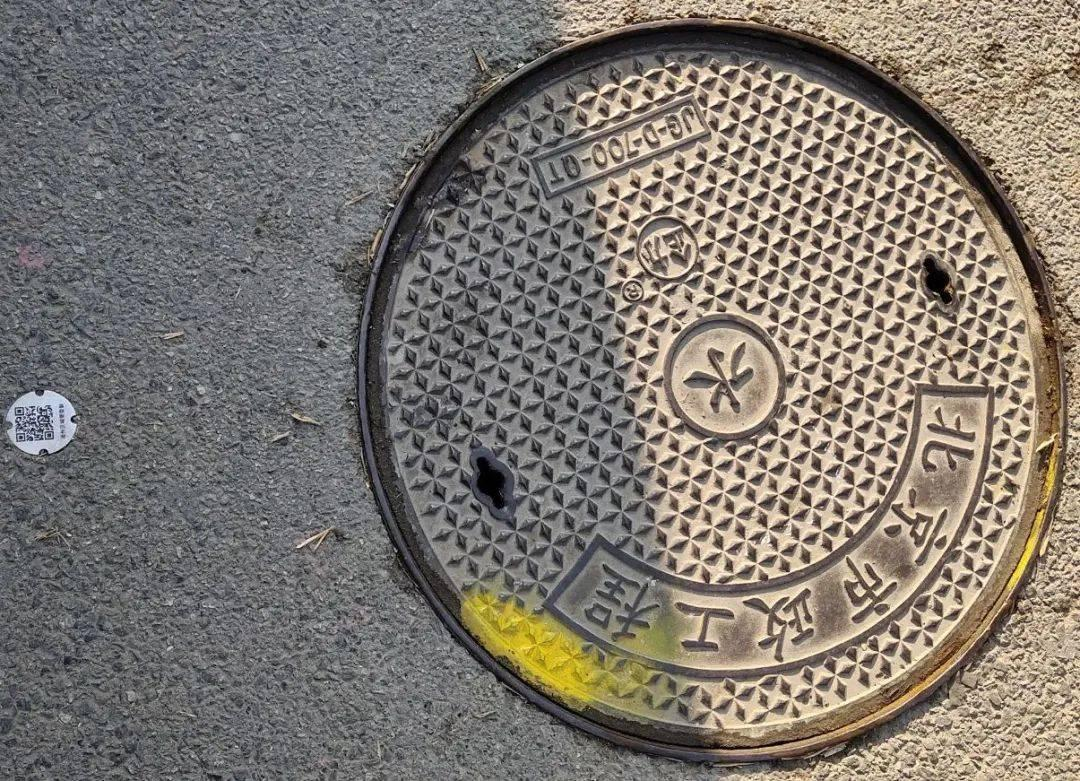wellcover: (340, 19, 1080, 775)
